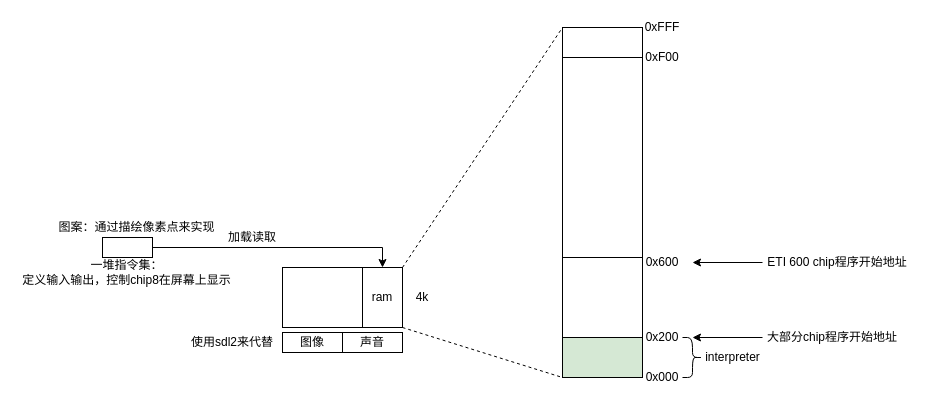
Image size: 930x404. Some labels were removed from this diagram. The centre of each missing label's shape, as x and y in pixels:
Games: the point at 127,247
留给屏幕256字节 64x32分辨率(bit): the point at 602,42
